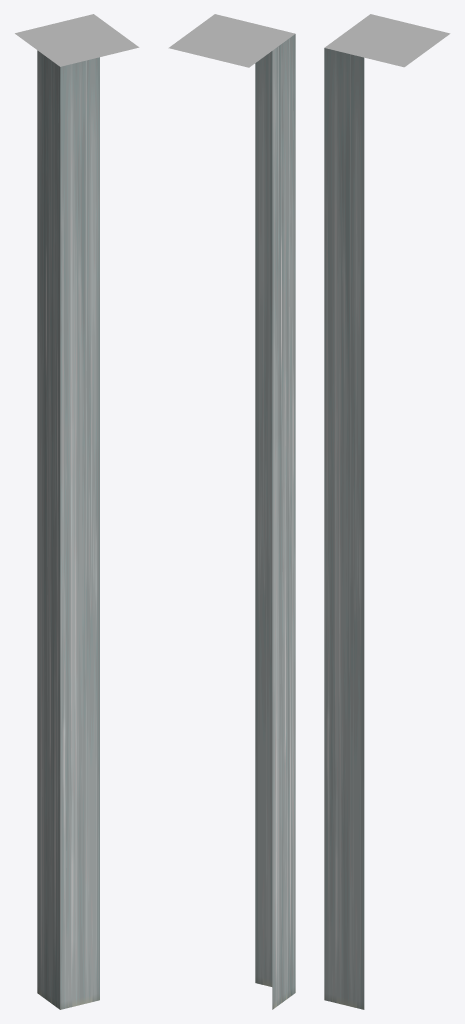
The model's file is W_I__Eckverschluß [Türkis2]_1299.glb.
3 views of the same model, side by side, from view 1: azimuth 30°, elevation 25°; view 2: azimuth 150°, elevation 25°; view 3: azimuth 330°, elevation 25° (orthographic).
Parts seen in each view (by area): view 1: pPlaneShape7, pPlaneShape11; view 2: pPlaneShape7, pPlaneShape11; view 3: pPlaneShape7, pPlaneShape11.
Part boxes in pixels (x1,y1,x2,y2): pPlaneShape7: [37, 50, 99, 1009]; pPlaneShape11: [15, 14, 139, 66]; pPlaneShape7: [255, 34, 295, 1009]; pPlaneShape11: [168, 14, 295, 67]; pPlaneShape7: [324, 48, 364, 1009]; pPlaneShape11: [324, 14, 450, 67].
Size of the model in its own units: 0.0307 by 0.3486 by 0.0307.
2 materials, 1 textured.
